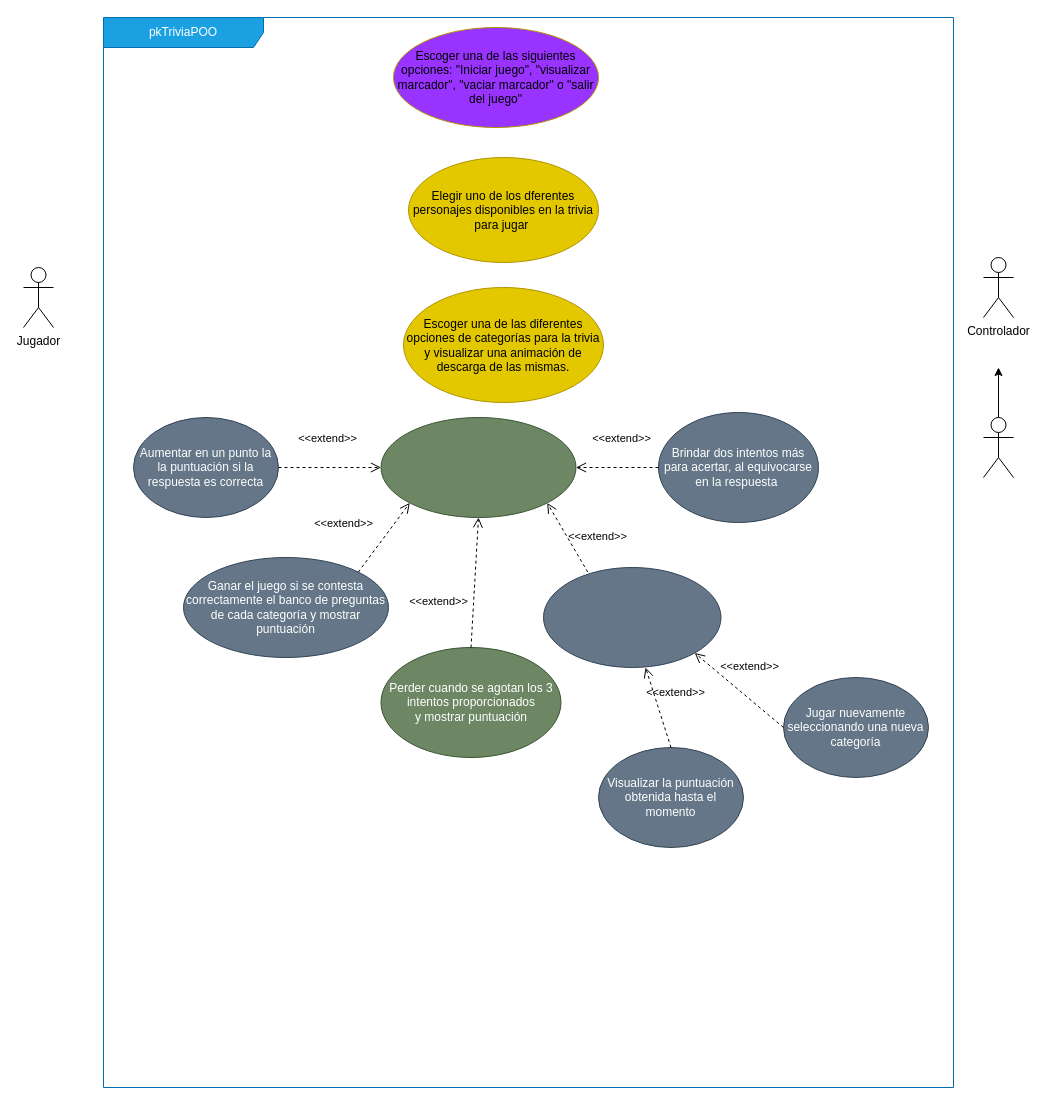
Some shapes in this 1047 by 1105 pixel diagram are drawn without their labels. Here are the shapes that lost their labels. From the top down, the centre of each, then its label:
point (478, 467): Validar la respuesta seleccionada
point (998, 447): Joystick
point (631, 617): Ganar la categoría al contestar correctamente las preguntas de la misma
